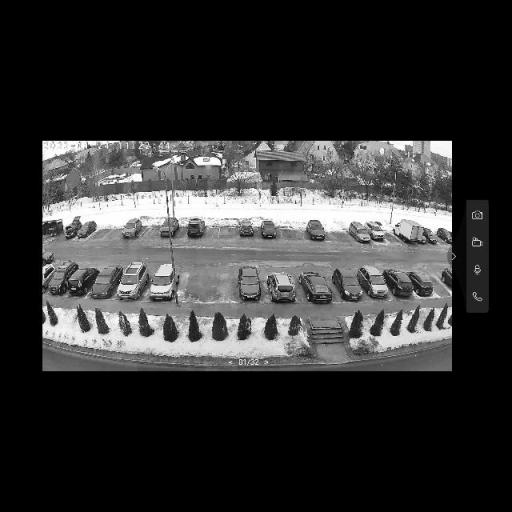busy: (145, 264, 180, 302), (358, 265, 394, 298), (87, 266, 121, 300), (114, 264, 145, 301), (234, 268, 266, 302), (300, 274, 336, 304), (390, 218, 430, 244), (269, 272, 301, 304), (334, 268, 364, 302), (64, 267, 94, 298), (388, 270, 418, 298), (46, 263, 69, 297), (346, 221, 376, 243), (411, 272, 434, 300), (306, 219, 330, 242), (121, 218, 145, 240), (366, 220, 388, 241), (439, 268, 454, 297), (185, 218, 205, 238), (158, 218, 178, 238), (66, 216, 81, 242), (429, 228, 449, 246), (74, 222, 96, 237), (260, 222, 278, 240), (236, 222, 255, 238)
free: (208, 268, 234, 302), (182, 270, 206, 298), (428, 272, 450, 298), (218, 219, 240, 242), (326, 227, 352, 245), (200, 221, 218, 241), (275, 222, 293, 242), (92, 221, 108, 243), (382, 226, 400, 244), (144, 224, 162, 240), (294, 224, 308, 242), (110, 226, 122, 241)
